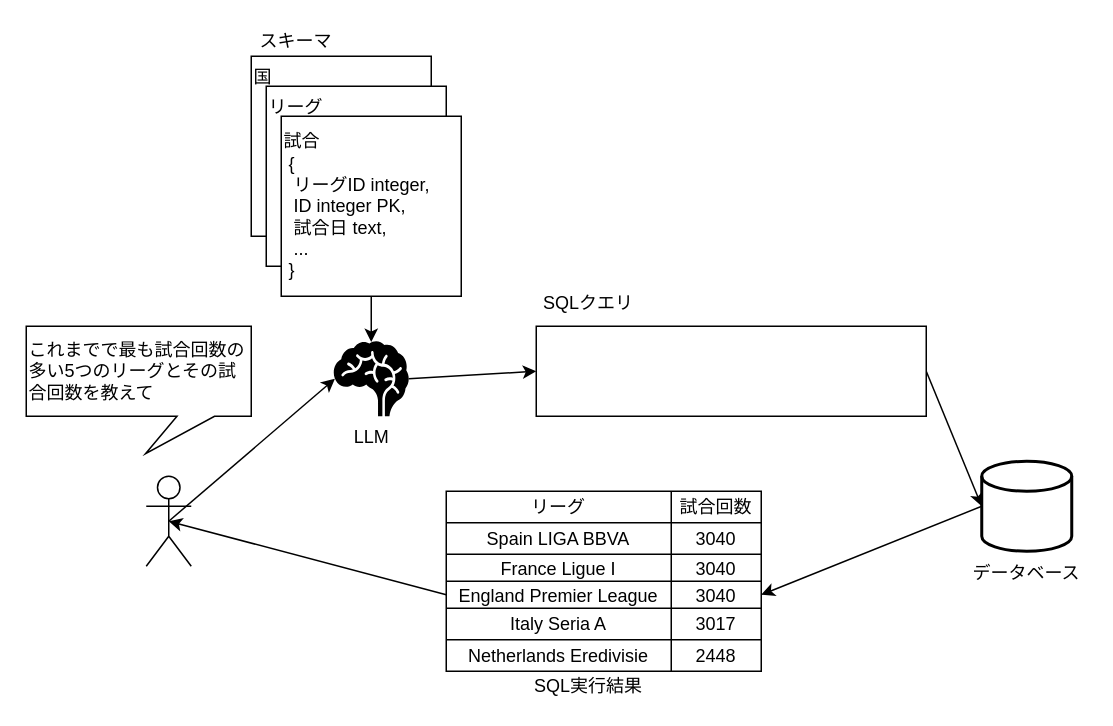
The diagram is 1113 pixels wide and 726 high, and some of its shapes have lost their labels. The shapes that lost their labels are listed below. From the top down, each one's centre as x and y in pixels, then its label:
At point 730,370: "SELECT リーグ.名前, COUNT(試合.ID) FROM 試合 ... ORDER BY ... DESC LIMIT 5".
At point 168,520: "ユーザ".
